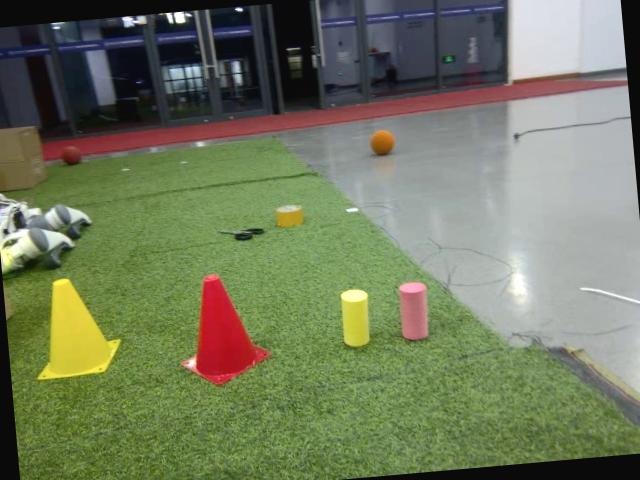orange_ball: (367, 128, 396, 158)
red_ball: (60, 144, 83, 166)
red_barrel: (172, 268, 274, 391)
red_cylinder: (395, 278, 434, 343)
yellow_barrel: (26, 272, 124, 386)
yellow_cylinder: (337, 284, 375, 350)
